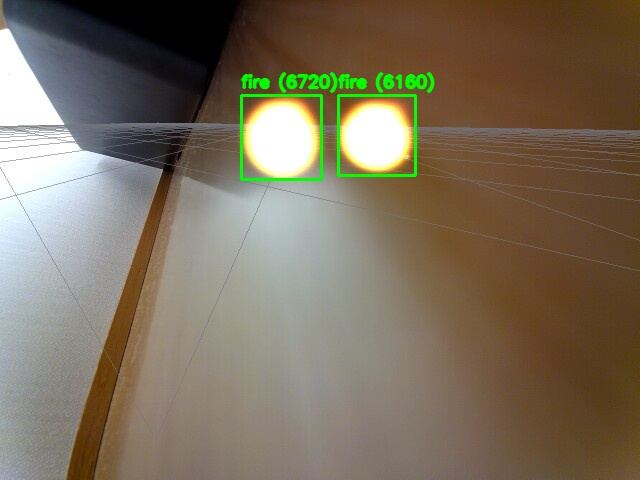fire: (241, 95, 321, 179), (338, 95, 415, 175)
